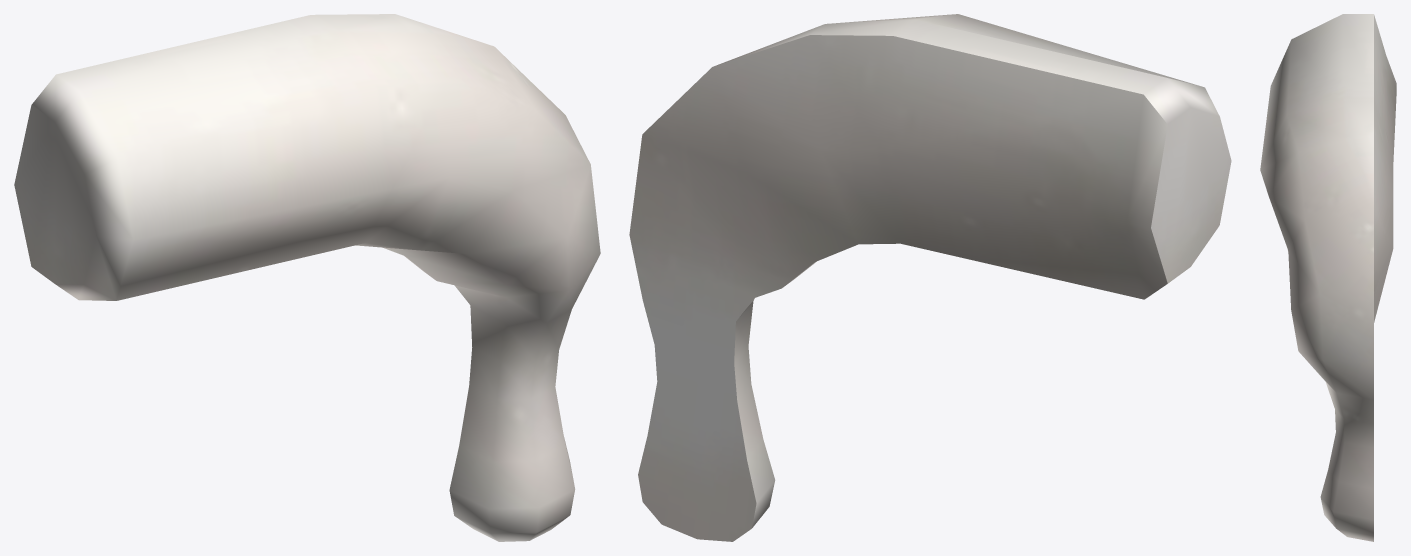
The model's file is roof.gingerbread.top.line.end.right.glb.
3 views of the same model, side by side, from view 1: azimuth 30°, elevation 25°; view 2: azimuth 150°, elevation 25°; view 3: azimuth 270°, elevation 25° (orthographic). The views are drawn at different scales.
Parts seen in each view (by area): view 1: roof.top.line.end.right_LOD0; view 2: roof.top.line.end.right_LOD0; view 3: roof.top.line.end.right_LOD0.
Part boxes in pixels (box(x1,y1,x2,y2)): roof.top.line.end.right_LOD0: box(14, 14, 600, 541); roof.top.line.end.right_LOD0: box(629, 14, 1231, 541); roof.top.line.end.right_LOD0: box(1260, 14, 1396, 541).
Size of the model in its own units: 0.7355 by 0.7226 by 0.2394.
1 material, 1 textured.
